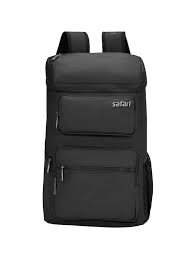backpack: (42, 30, 153, 227)
